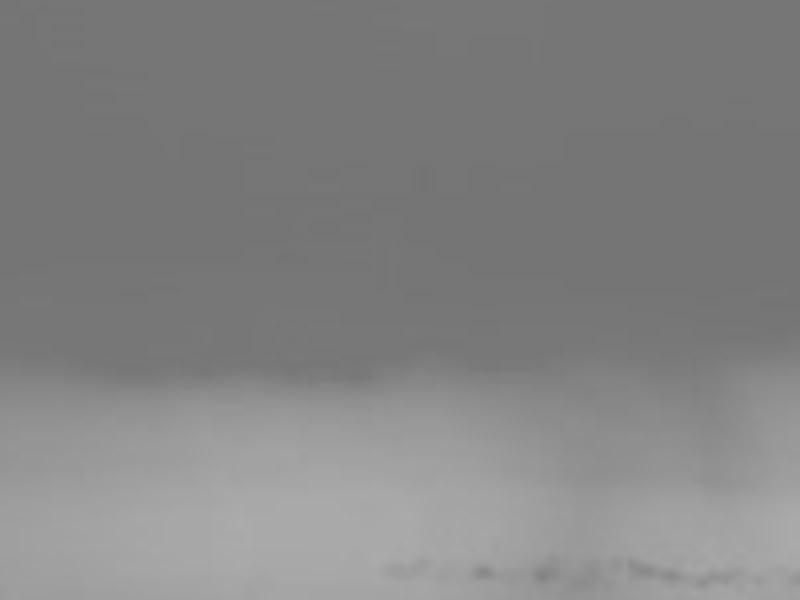defect: (375, 554, 408, 580), (711, 566, 740, 590), (627, 559, 656, 580), (534, 562, 560, 585), (660, 566, 688, 586), (474, 566, 498, 581), (416, 557, 430, 576), (695, 575, 708, 592)
